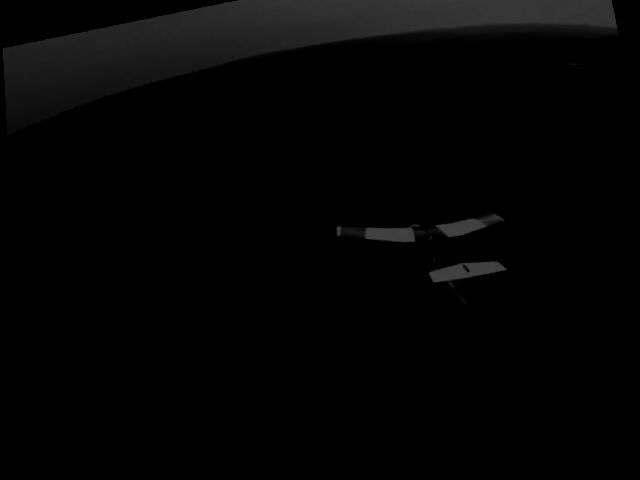hedef: (322, 179, 539, 345)
